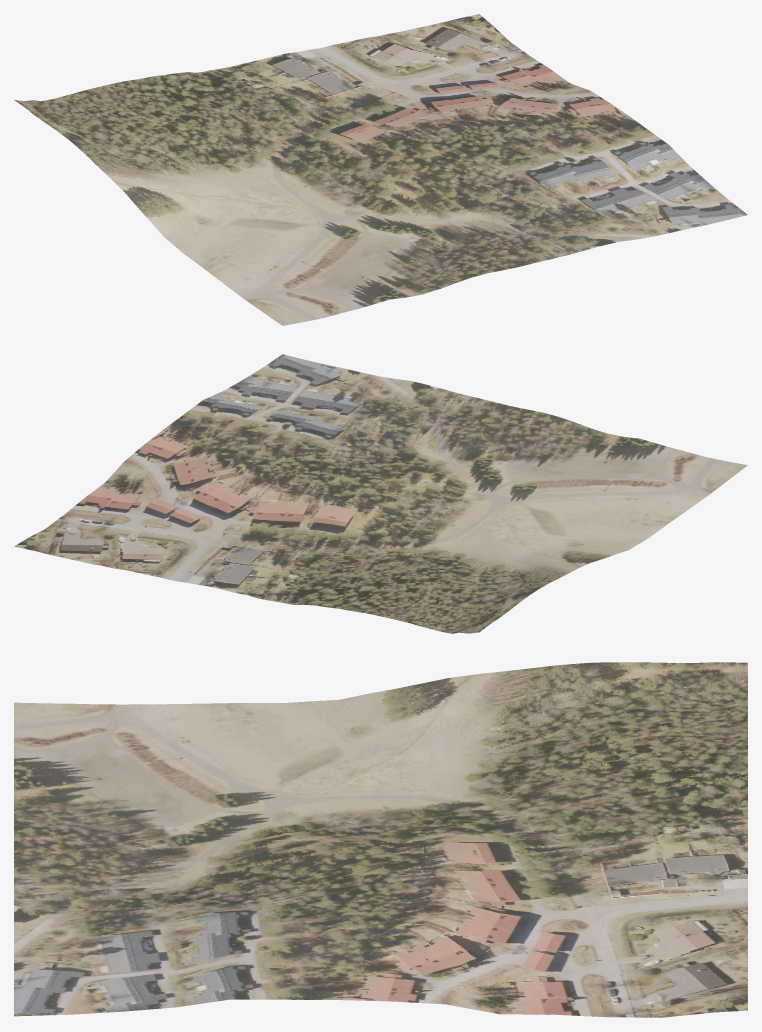
The model's file is CM_Terrain_24492916_6814879.fbx.
3 renders of one model, top to bottom at view 1: azimuth 30°, elevation 25°; view 2: azimuth 150°, elevation 25°; view 3: azimuth 270°, elevation 25°, orthographic. The views are drawn at different scales.
Visible parts, largest first — view 1: CM_Terrain_24492916_6814879_LOD0; view 2: CM_Terrain_24492916_6814879_LOD0; view 3: CM_Terrain_24492916_6814879_LOD0.
Part boxes in pixels (box(x1,y1,x2,y2)): CM_Terrain_24492916_6814879_LOD0: box(14, 14, 747, 325); CM_Terrain_24492916_6814879_LOD0: box(14, 354, 747, 633); CM_Terrain_24492916_6814879_LOD0: box(14, 662, 747, 1017).
Size of what is drawn, in the model's own units: 205 by 13.98 by 205.
